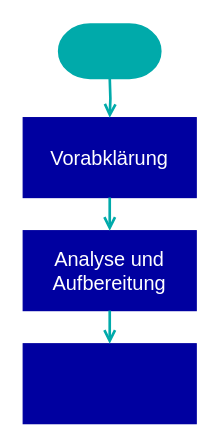
The diagram is 219 pixels wide and 447 high, and some of its shapes have lost their labels. The shapes that lost their labels are listed below. From the top down, each one's centre as x and y in pixels, then its label:
the point at 109,50: Start
the point at 109,383: Publikation
